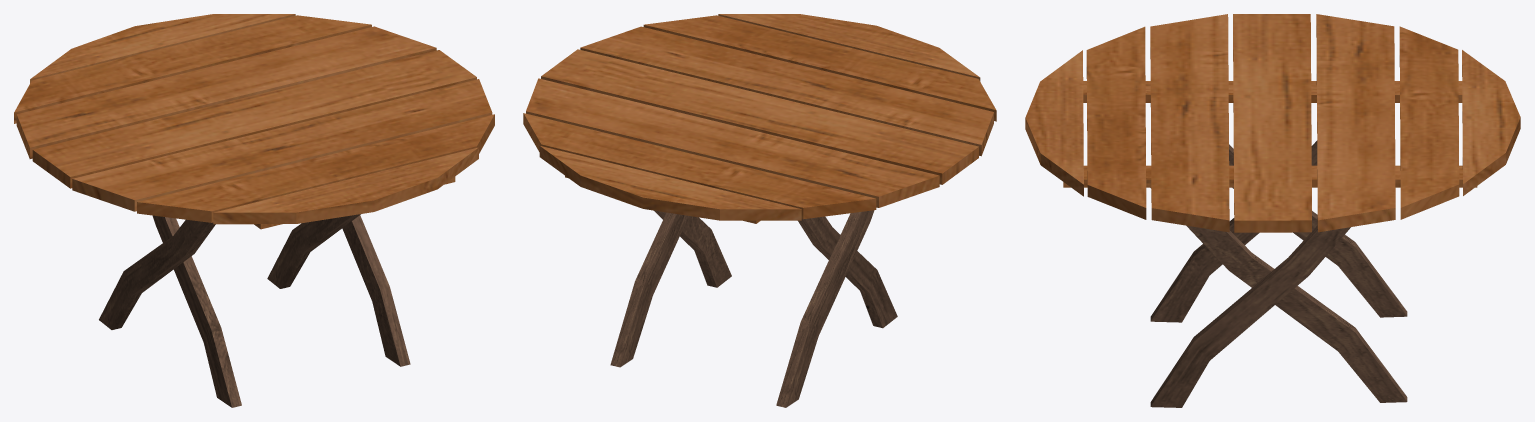
The model's file is M_Home_Garden_Table01.fbx.
The picture shows the model from 3 angles, left to right: view 1: azimuth 30°, elevation 25°; view 2: azimuth 150°, elevation 25°; view 3: azimuth 270°, elevation 25°; orthographic projection. The views are drawn at different scales.
Parts seen in each view (by area): view 1: M_Home_Garden_Table01; view 2: M_Home_Garden_Table01; view 3: M_Home_Garden_Table01.
Part boxes in pixels (x1,y1,x2,y2): M_Home_Garden_Table01: (14, 14, 494, 407); M_Home_Garden_Table01: (523, 14, 996, 407); M_Home_Garden_Table01: (1025, 14, 1520, 407).
Size of the model in its own units: 158 by 86.13 by 160.
